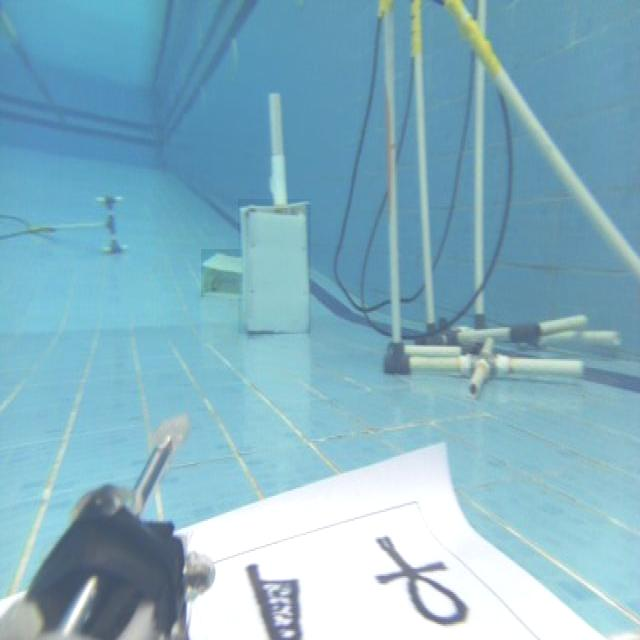Cube: (238, 199, 311, 334)
Cuboid: (201, 249, 243, 297)
